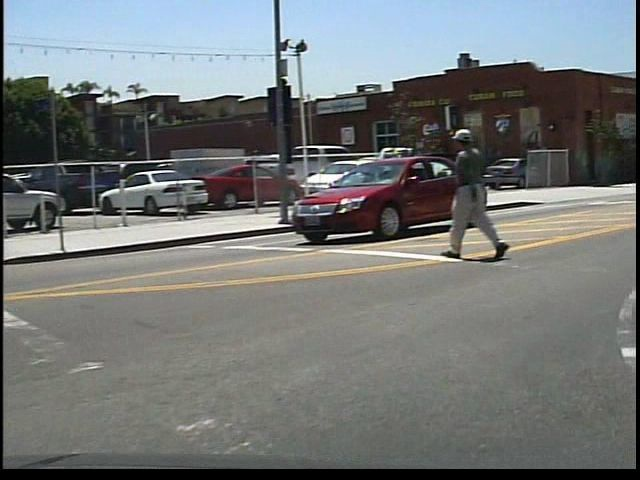person: (452, 116, 516, 268)
